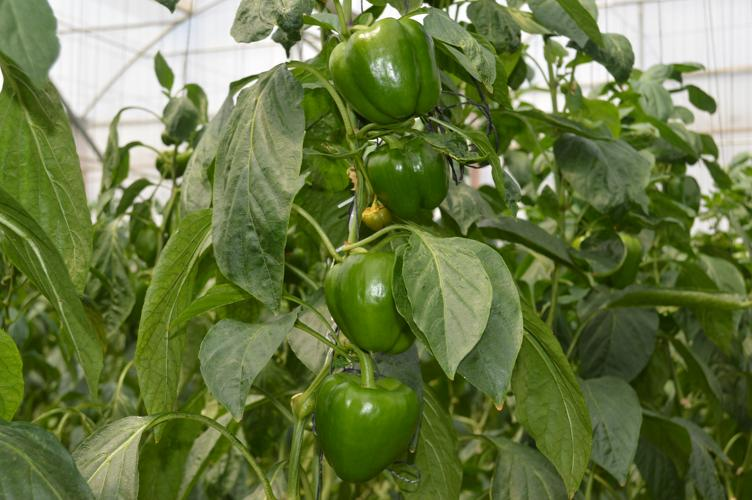BellPepper: (332, 17, 442, 121), (315, 372, 420, 478), (320, 251, 414, 357), (367, 141, 451, 222)
